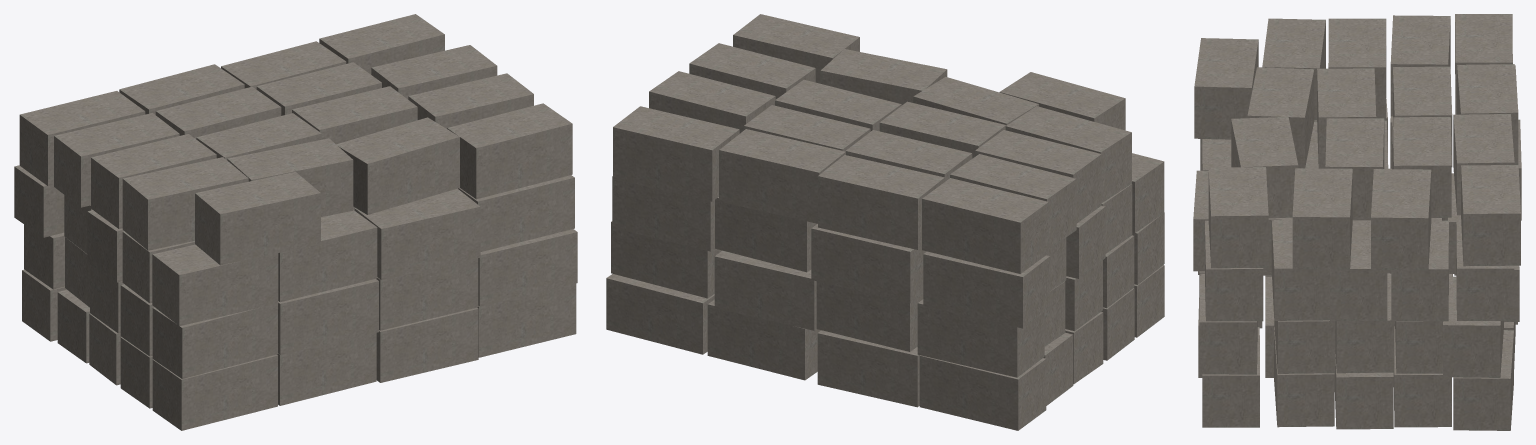
The model's file is blocs_beton.glb.
3 views of the same model, side by side, from view 1: azimuth 30°, elevation 25°; view 2: azimuth 150°, elevation 25°; view 3: azimuth 270°, elevation 25° (orthographic). The views are drawn at different scales.
Parts seen in each view (by area): view 1: Concrete_Blocks _Construction_Pack_0; view 2: Concrete_Blocks _Construction_Pack_0; view 3: Concrete_Blocks _Construction_Pack_0.
Boxes of the visible parts, x1,y1,x2,y2 form: Concrete_Blocks _Construction_Pack_0: [14, 14, 577, 430]; Concrete_Blocks _Construction_Pack_0: [606, 14, 1164, 430]; Concrete_Blocks _Construction_Pack_0: [1193, 14, 1521, 430].
Size of the model in its own units: 1.71 by 0.812 by 1.14.
Materials: 1 (1 with a texture image).
